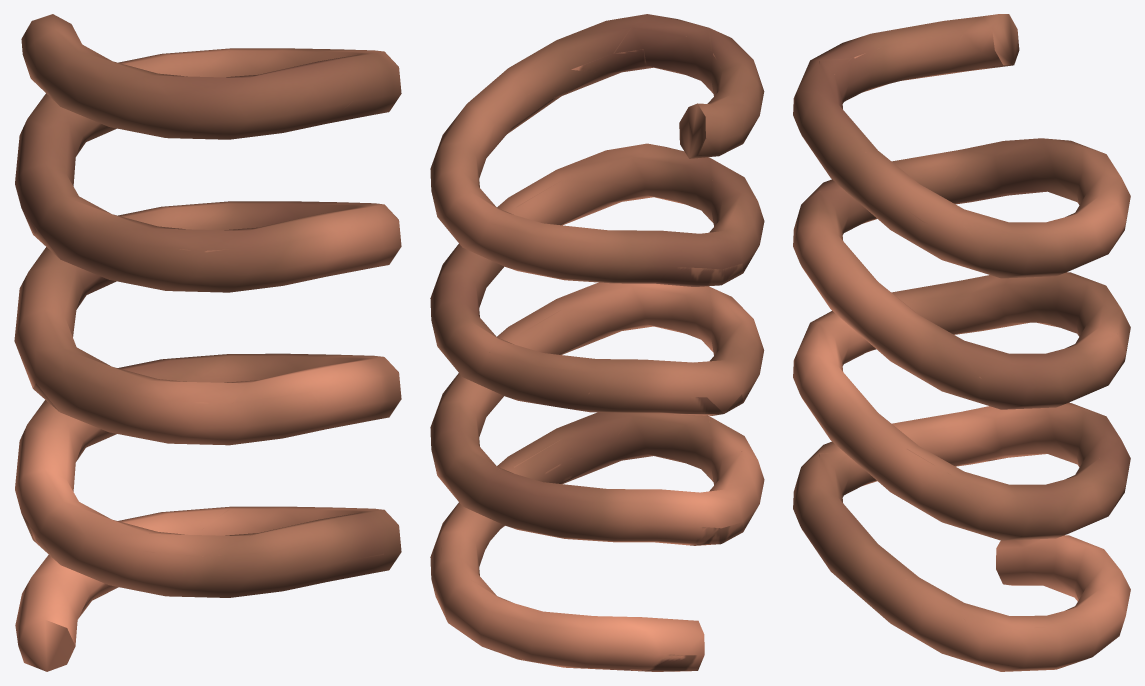
The model's file is Resorte.fbx.
3 renders of one model, left to right at view 1: azimuth 30°, elevation 25°; view 2: azimuth 150°, elevation 25°; view 3: azimuth 270°, elevation 25°, orthographic. The views are drawn at different scales.
Visible parts, largest first — view 1: Resorte; view 2: Resorte; view 3: Resorte.
Part boxes in pixels (box(x1,y1,x2,y2)): Resorte: box(14, 14, 401, 671); Resorte: box(430, 14, 764, 671); Resorte: box(793, 14, 1130, 671).
Bounding box in the file's own units: 49.78 × 91.48 × 49.09.
